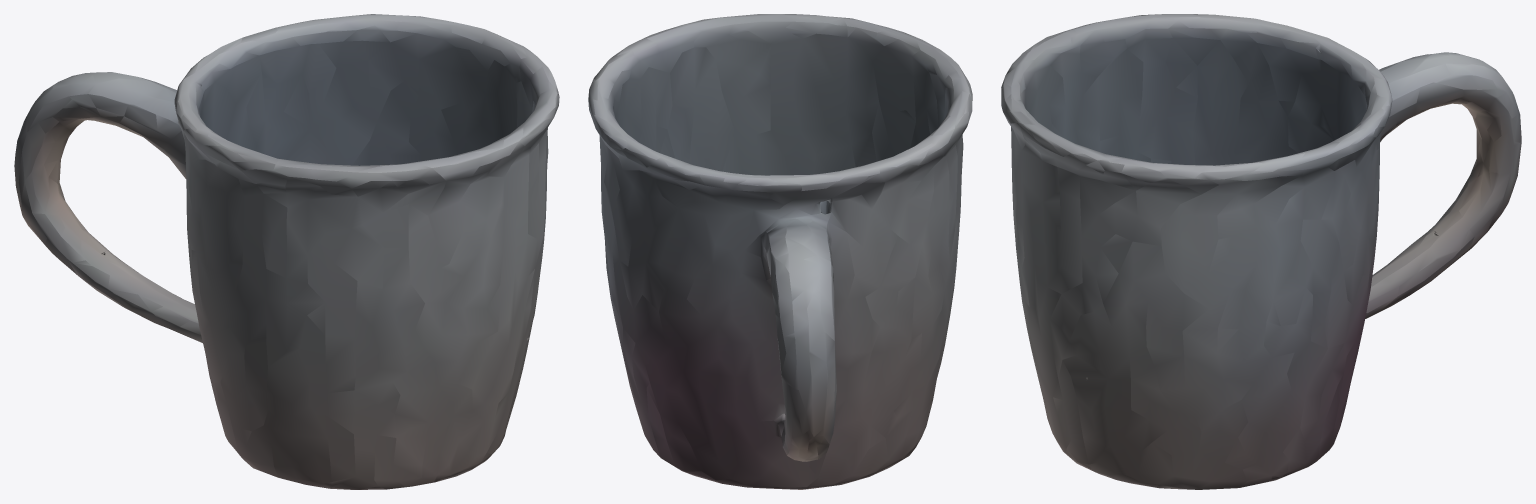
Rendered from 0008_mask_009_grey_mug.glb.
3 views of the same model, side by side, from view 1: azimuth 30°, elevation 25°; view 2: azimuth 150°, elevation 25°; view 3: azimuth 270°, elevation 25° (orthographic).
Visible parts, largest first — view 1: mask_009_object; view 2: mask_009_object; view 3: mask_009_object.
Part boxes in pixels (x1=…): mask_009_object: x1=14, y1=14, x2=559, y2=489; mask_009_object: x1=588, y1=14, x2=972, y2=489; mask_009_object: x1=1001, y1=14, x2=1521, y2=489.
Bounding box in the file's own units: 0.1491 × 0.1339 × 0.1803.
